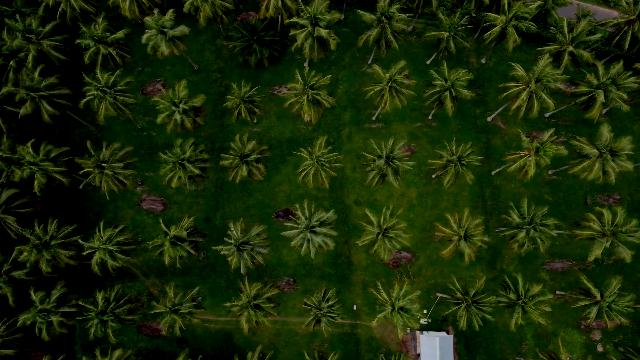trees: (5, 219, 88, 278), (497, 56, 572, 121), (2, 64, 76, 128), (564, 123, 639, 185), (3, 14, 79, 75), (566, 60, 640, 122), (496, 199, 567, 260), (71, 141, 143, 201), (10, 283, 82, 343), (566, 275, 640, 331), (571, 205, 640, 265), (74, 287, 145, 345), (538, 8, 602, 71), (3, 140, 75, 196), (73, 222, 143, 278), (501, 130, 572, 185), (477, 2, 543, 60), (140, 284, 208, 340), (278, 201, 340, 262), (73, 14, 136, 74), (494, 274, 558, 333), (144, 215, 211, 271), (284, 3, 343, 66), (437, 277, 502, 334), (277, 67, 338, 126), (212, 219, 274, 277), (77, 68, 140, 125), (223, 15, 289, 69), (358, 3, 417, 63), (355, 206, 414, 265), (368, 281, 425, 342), (224, 279, 284, 336), (361, 62, 419, 120), (432, 210, 493, 265), (420, 8, 479, 64), (150, 81, 209, 136), (422, 63, 477, 120), (361, 137, 420, 190), (156, 138, 213, 192), (219, 134, 276, 186), (427, 138, 485, 189), (140, 9, 194, 62), (291, 136, 344, 190), (590, 4, 640, 61), (299, 285, 348, 339), (222, 80, 269, 126), (183, 1, 233, 29)
